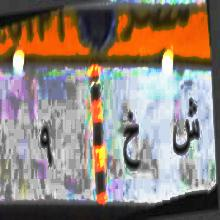9: (37, 119, 55, 175)
khaa: (121, 108, 142, 177)
sheen: (170, 99, 200, 163)
